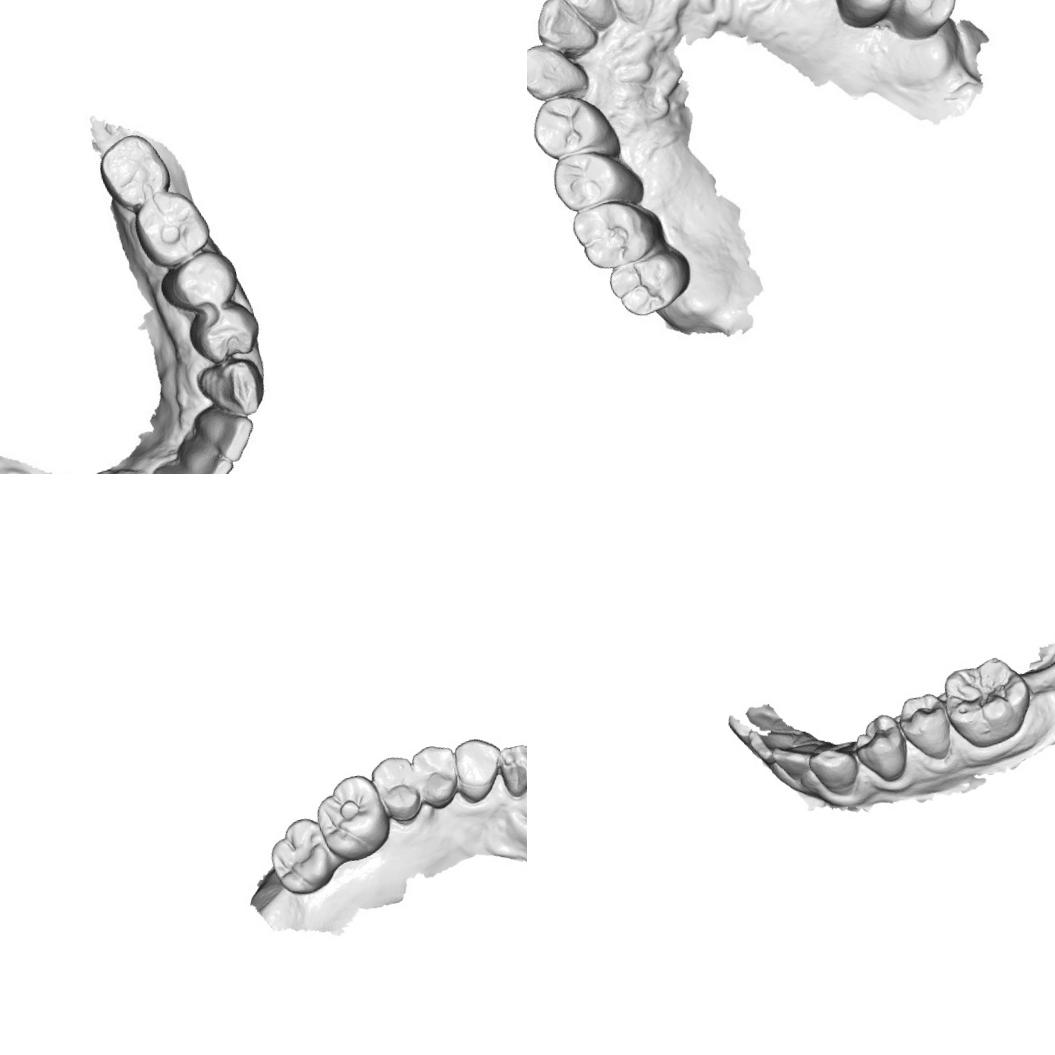canine: (182, 342, 282, 428), (527, 31, 588, 107), (448, 732, 510, 806), (806, 739, 864, 801)
incisor: (528, 0, 602, 63), (196, 398, 256, 466), (768, 736, 824, 788), (746, 718, 802, 766), (533, 0, 611, 32), (179, 433, 237, 474), (493, 738, 527, 801), (151, 461, 206, 474)
molar: (936, 650, 1040, 756), (568, 190, 672, 274), (309, 769, 396, 868), (603, 242, 698, 324), (125, 184, 213, 272), (261, 809, 343, 902), (90, 129, 169, 212), (874, 0, 971, 45), (816, 0, 918, 36)
premolar: (527, 82, 628, 175), (546, 138, 649, 223), (848, 710, 913, 789), (894, 688, 958, 766), (367, 752, 425, 828), (407, 740, 466, 814), (172, 250, 242, 312), (196, 300, 264, 361)
